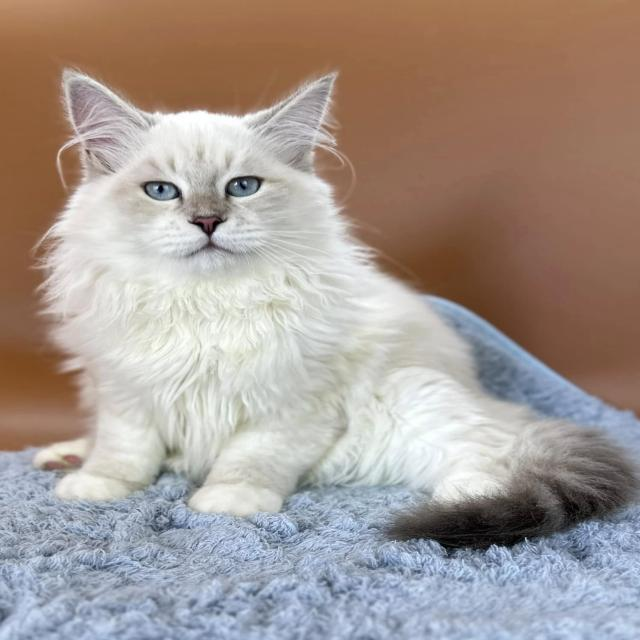Neva Masquerade: (32, 62, 640, 550)
